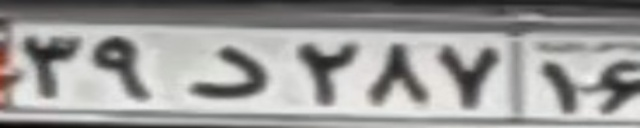1: (542, 60, 574, 113)
2: (295, 40, 355, 105)
3: (24, 33, 81, 98)
6: (597, 58, 637, 114)
7: (436, 44, 497, 108)
8: (367, 41, 425, 104)
9: (91, 33, 144, 101)
dal: (188, 44, 270, 100)
